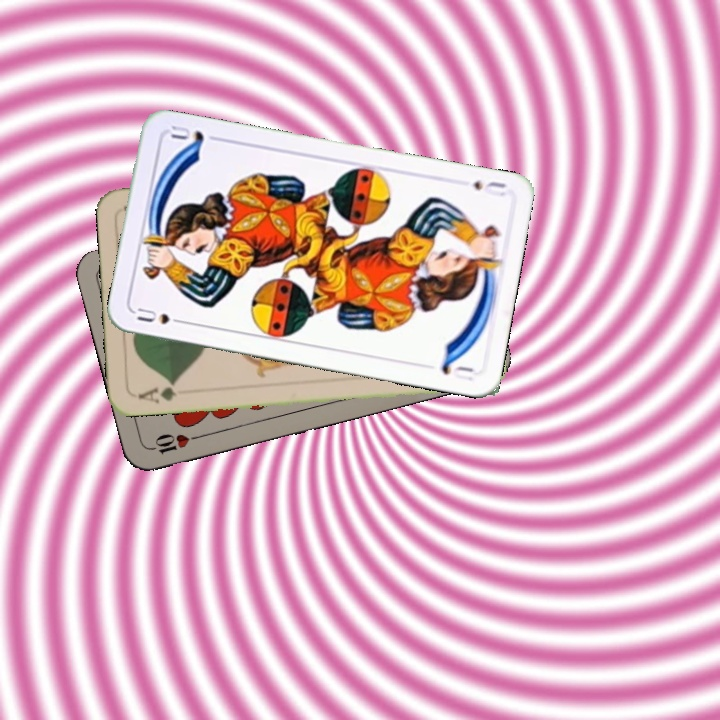GA: (134, 378, 179, 406)
H10: (146, 430, 205, 457)
SU: (133, 303, 190, 328), (469, 177, 509, 199)
